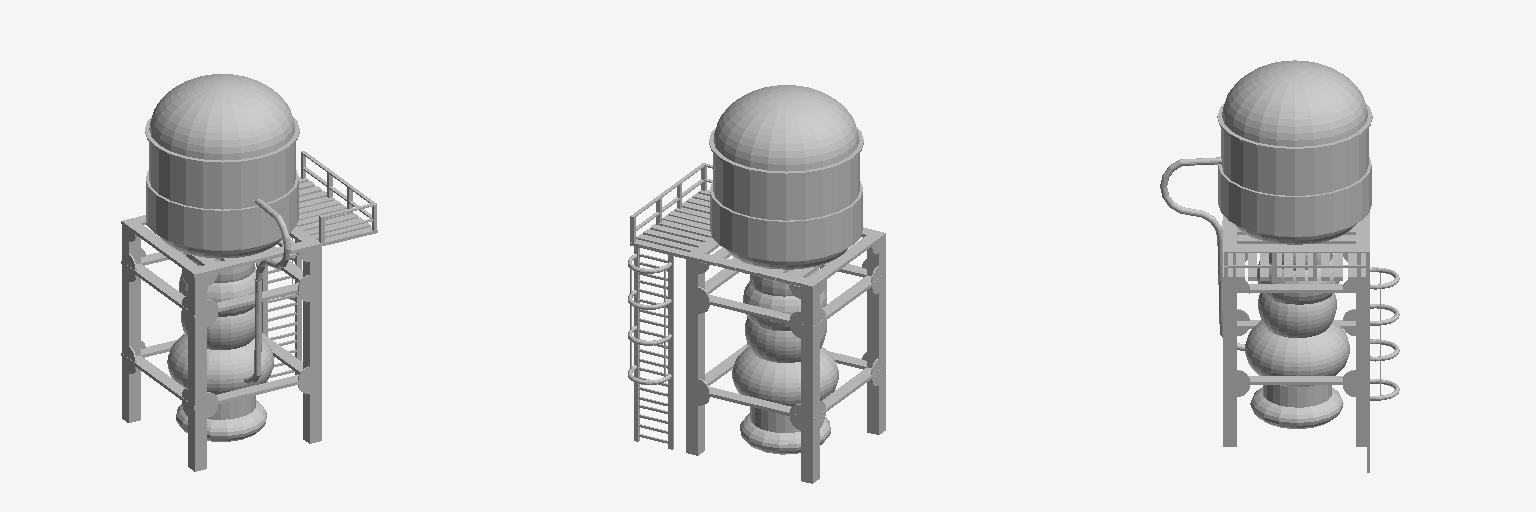
The model's file is Tower.obj.
3 views of the same model, side by side, from view 1: azimuth 30°, elevation 25°; view 2: azimuth 150°, elevation 25°; view 3: azimuth 270°, elevation 25° (orthographic).
Parts seen in each view (by area): view 1: Tower_Box74.001; view 2: Tower_Box74.001; view 3: Tower_Box74.001.
Boxes of the visible parts, x1=… form: Tower_Box74.001: x1=121, y1=74, x2=377, y2=471; Tower_Box74.001: x1=628, y1=85, x2=885, y2=483; Tower_Box74.001: x1=1160, y1=60, x2=1399, y2=472.
Size of the model in its own units: 3.72 by 6.62 by 4.14.